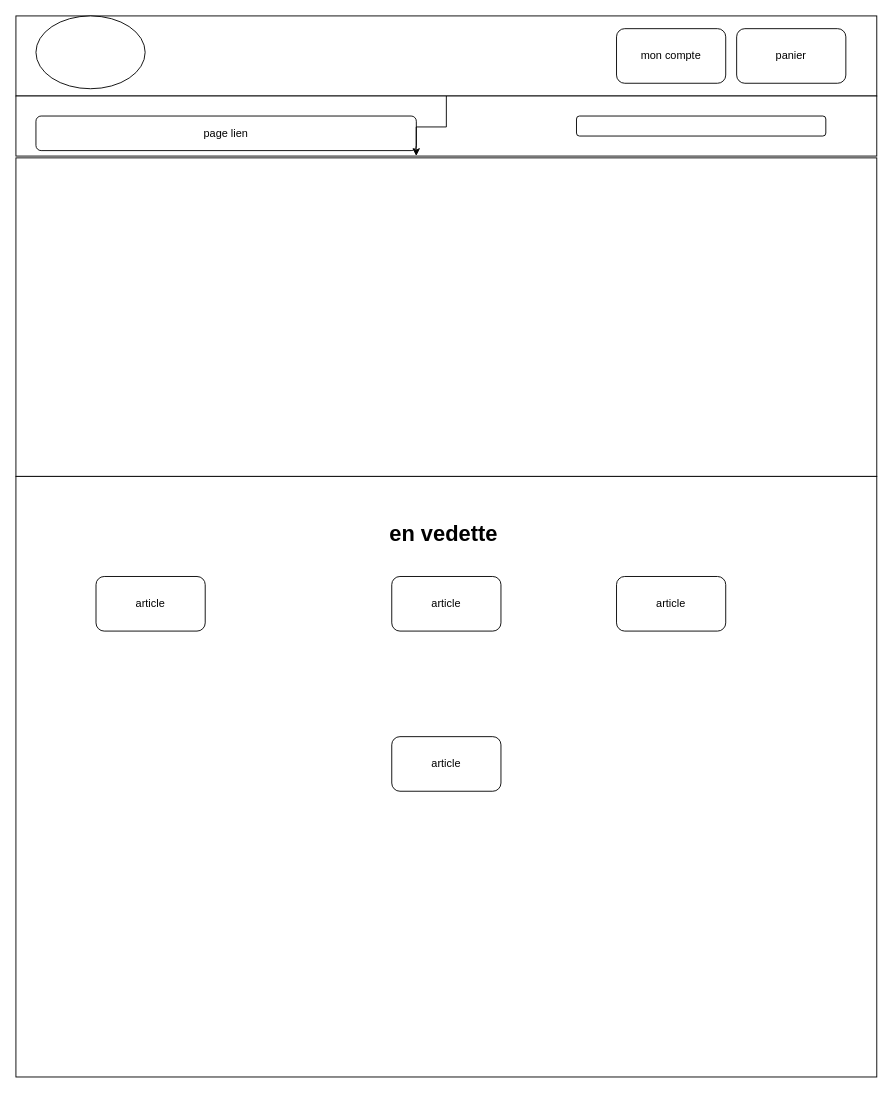
The diagram is 893 pixels wide and 1093 high, and some of its shapes have lost their labels. The shapes that lost their labels are listed below. From the top down, each one's centre as x and y in pixels, then its label:
the point at 90,52: logo
the point at 701,125: search
the point at 446,316: photo
